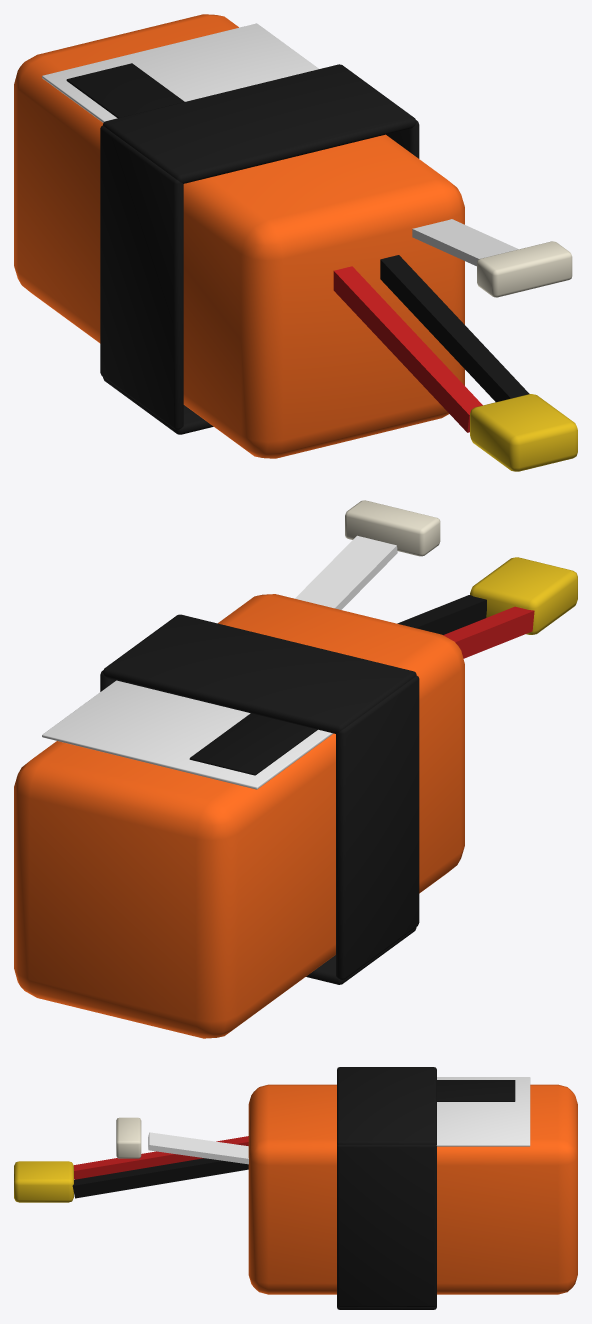
Rendered from batt_6s850.glb.
3 renders of one model, top to bottom at view 1: azimuth 30°, elevation 25°; view 2: azimuth 150°, elevation 25°; view 3: azimuth 270°, elevation 25°, orthographic. The views are drawn at different scales.
Visible parts, largest first — view 1: batt_6s850_M_Wrap_6s850, batt_6s850_M_Strap, batt_6s850_M_Label, batt_6s850_M_WireBlack, batt_6s850_M_XT60, batt_6s850_M_WireRed, batt_6s850_M_Connector; view 2: batt_6s850_M_Wrap_6s850, batt_6s850_M_Strap, batt_6s850_M_Label, batt_6s850_M_WireBlack, batt_6s850_M_XT60, batt_6s850_M_Connector, batt_6s850_M_WireRed; view 3: batt_6s850_M_Wrap_6s850, batt_6s850_M_Strap, batt_6s850_M_Label, batt_6s850_M_WireBlack, batt_6s850_M_XT60, batt_6s850_M_WireRed, batt_6s850_M_Connector.
Boxes of the visible parts, x1,y1,x2,y2 form: batt_6s850_M_Wrap_6s850: (14,14,464,458); batt_6s850_M_Strap: (100,64,419,434); batt_6s850_M_Label: (42,23,518,266); batt_6s850_M_WireBlack: (66,63,529,401); batt_6s850_M_XT60: (470,394,577,471); batt_6s850_M_WireRed: (333,266,482,432); batt_6s850_M_Connector: (477,241,572,297); batt_6s850_M_Wrap_6s850: (14,594,464,1038); batt_6s850_M_Strap: (100,614,419,984); batt_6s850_M_Label: (42,535,397,789); batt_6s850_M_WireBlack: (189,595,486,775); batt_6s850_M_XT60: (470,557,577,634); batt_6s850_M_Connector: (345,500,440,556); batt_6s850_M_WireRed: (443,606,534,658); batt_6s850_M_Wrap_6s850: (248,1084,577,1294); batt_6s850_M_Strap: (337,1067,436,1309); batt_6s850_M_Label: (148,1077,530,1164); batt_6s850_M_WireBlack: (72,1080,515,1198); batt_6s850_M_XT60: (14,1161,73,1202); batt_6s850_M_WireRed: (73,1136,248,1179); batt_6s850_M_Connector: (116,1117,141,1158).
Size of the model in its own units: 0.0368 by 0.0373 by 0.113.
